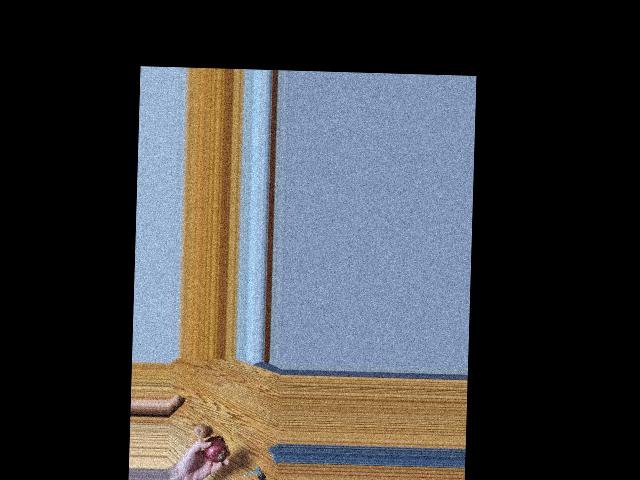onion: (191, 421, 207, 438)
